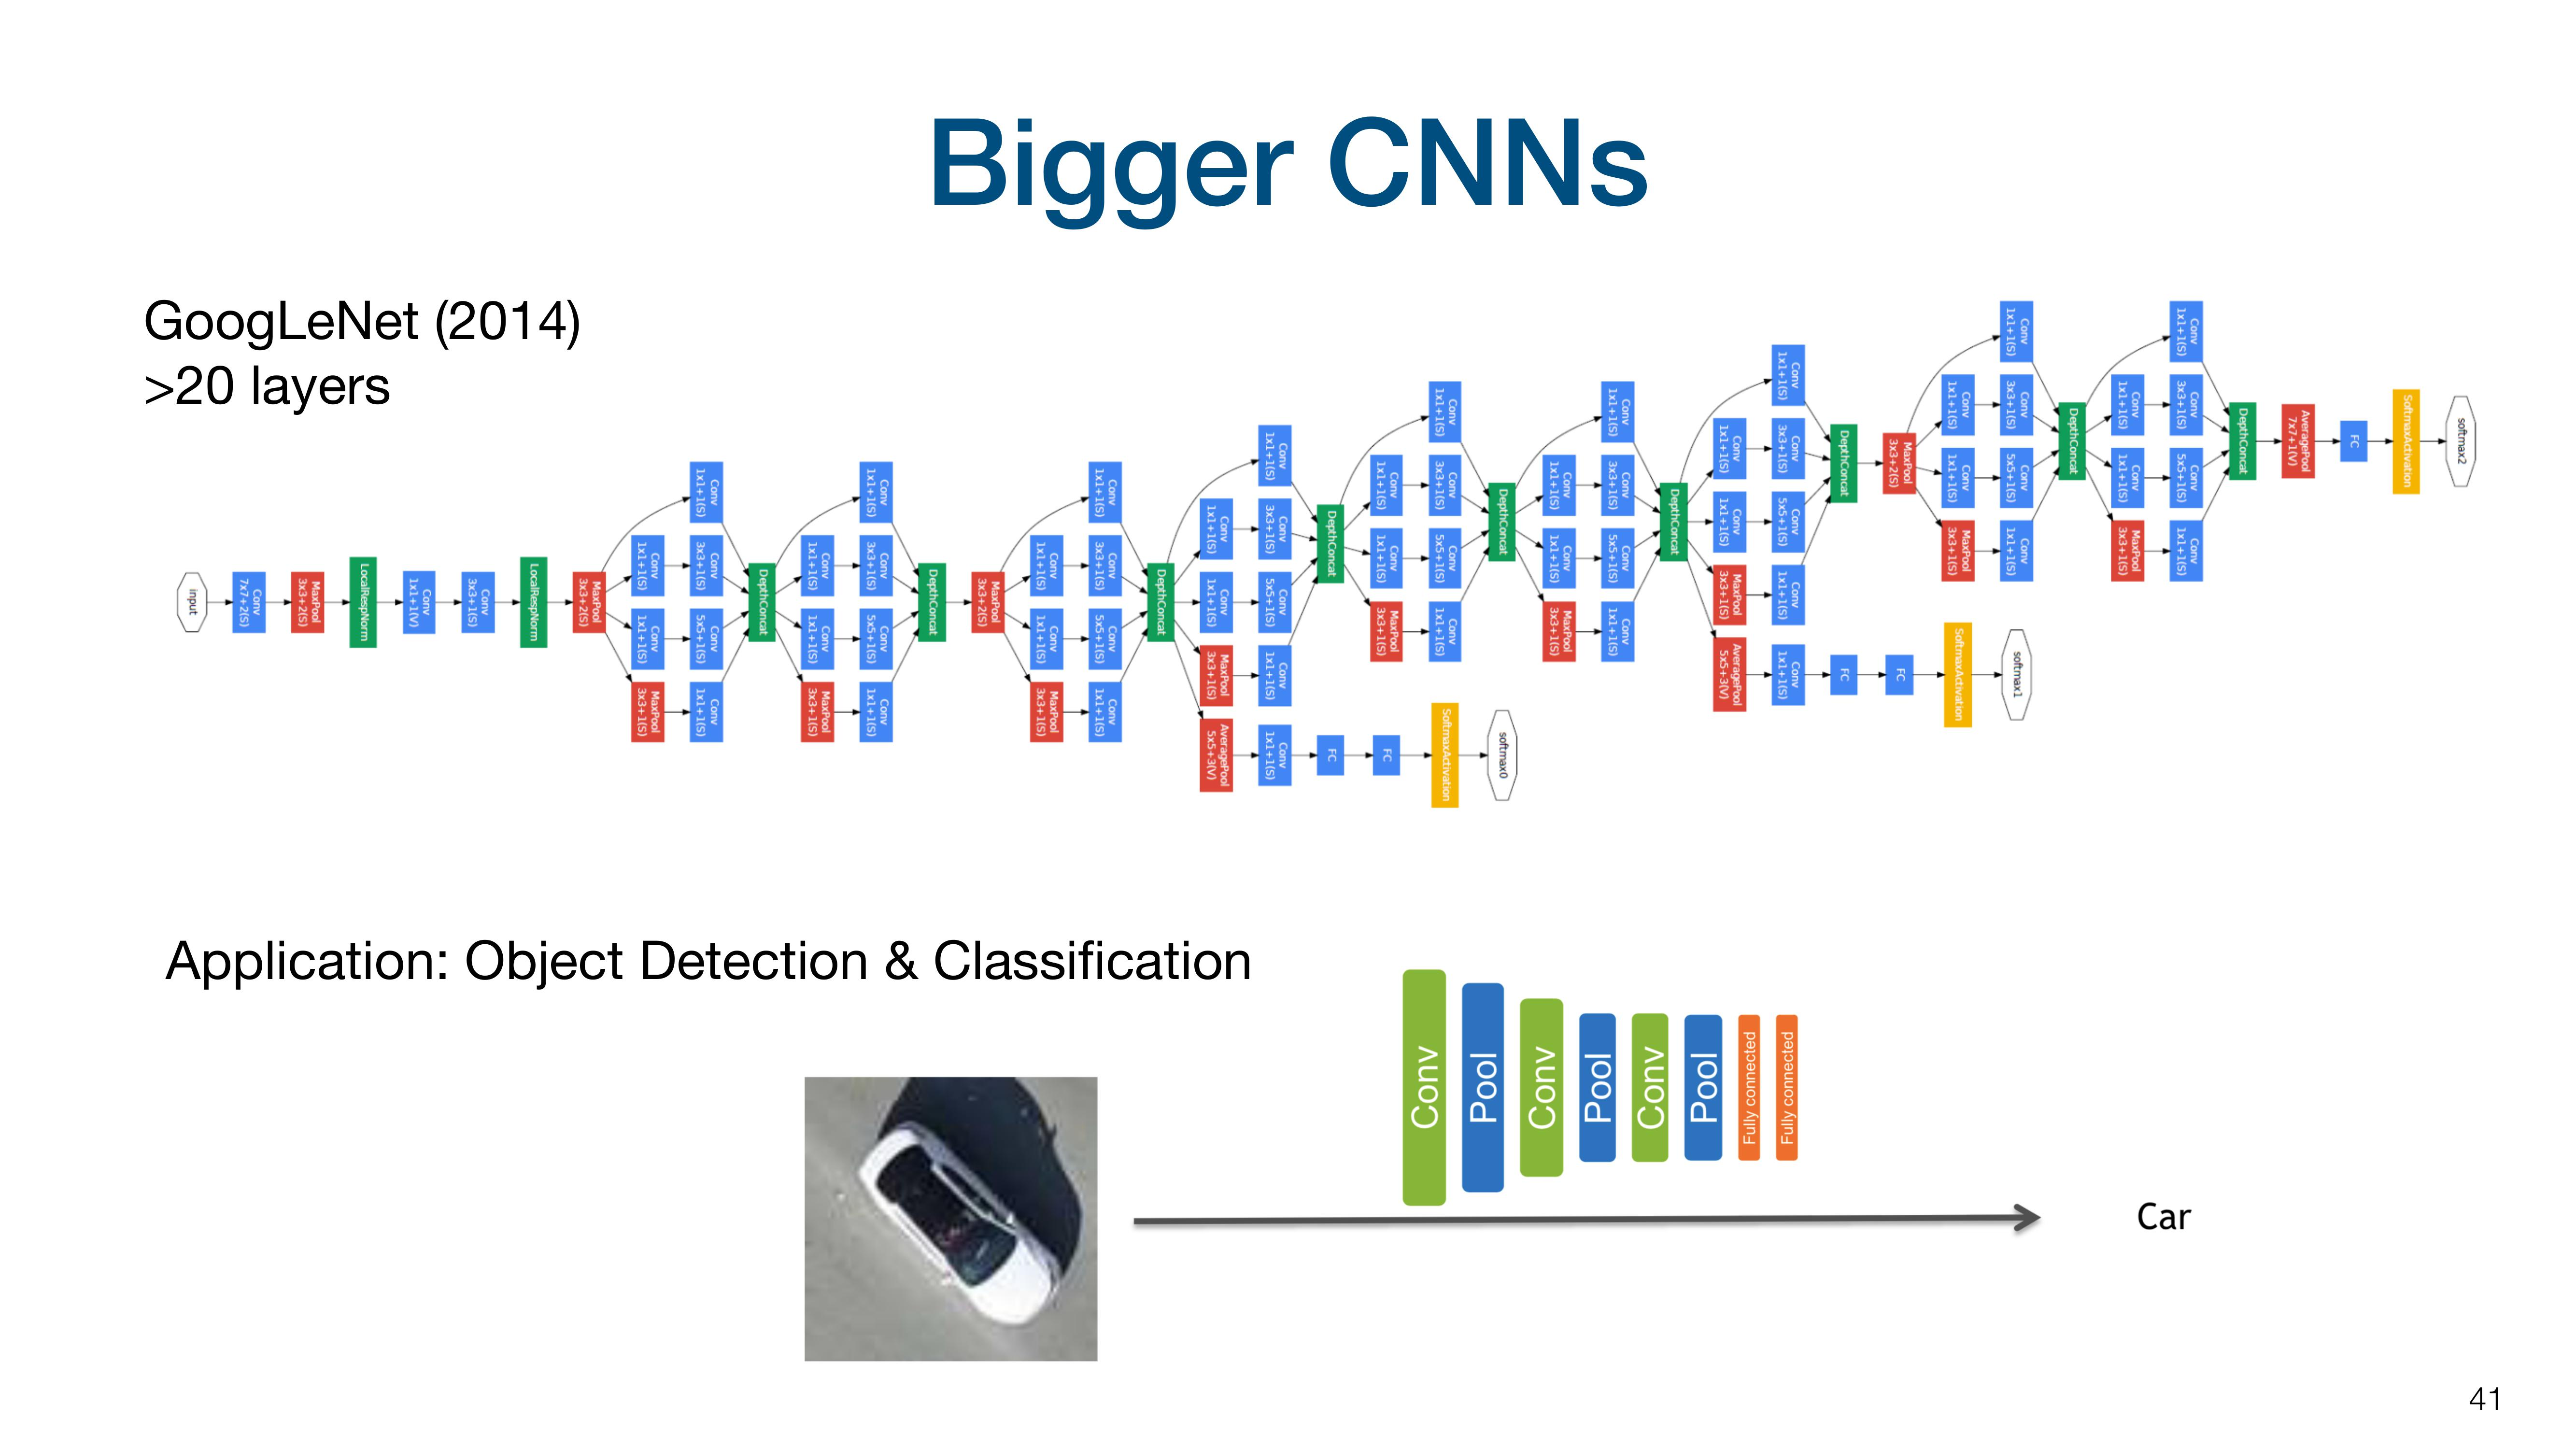Title: (893, 106, 1668, 242)
